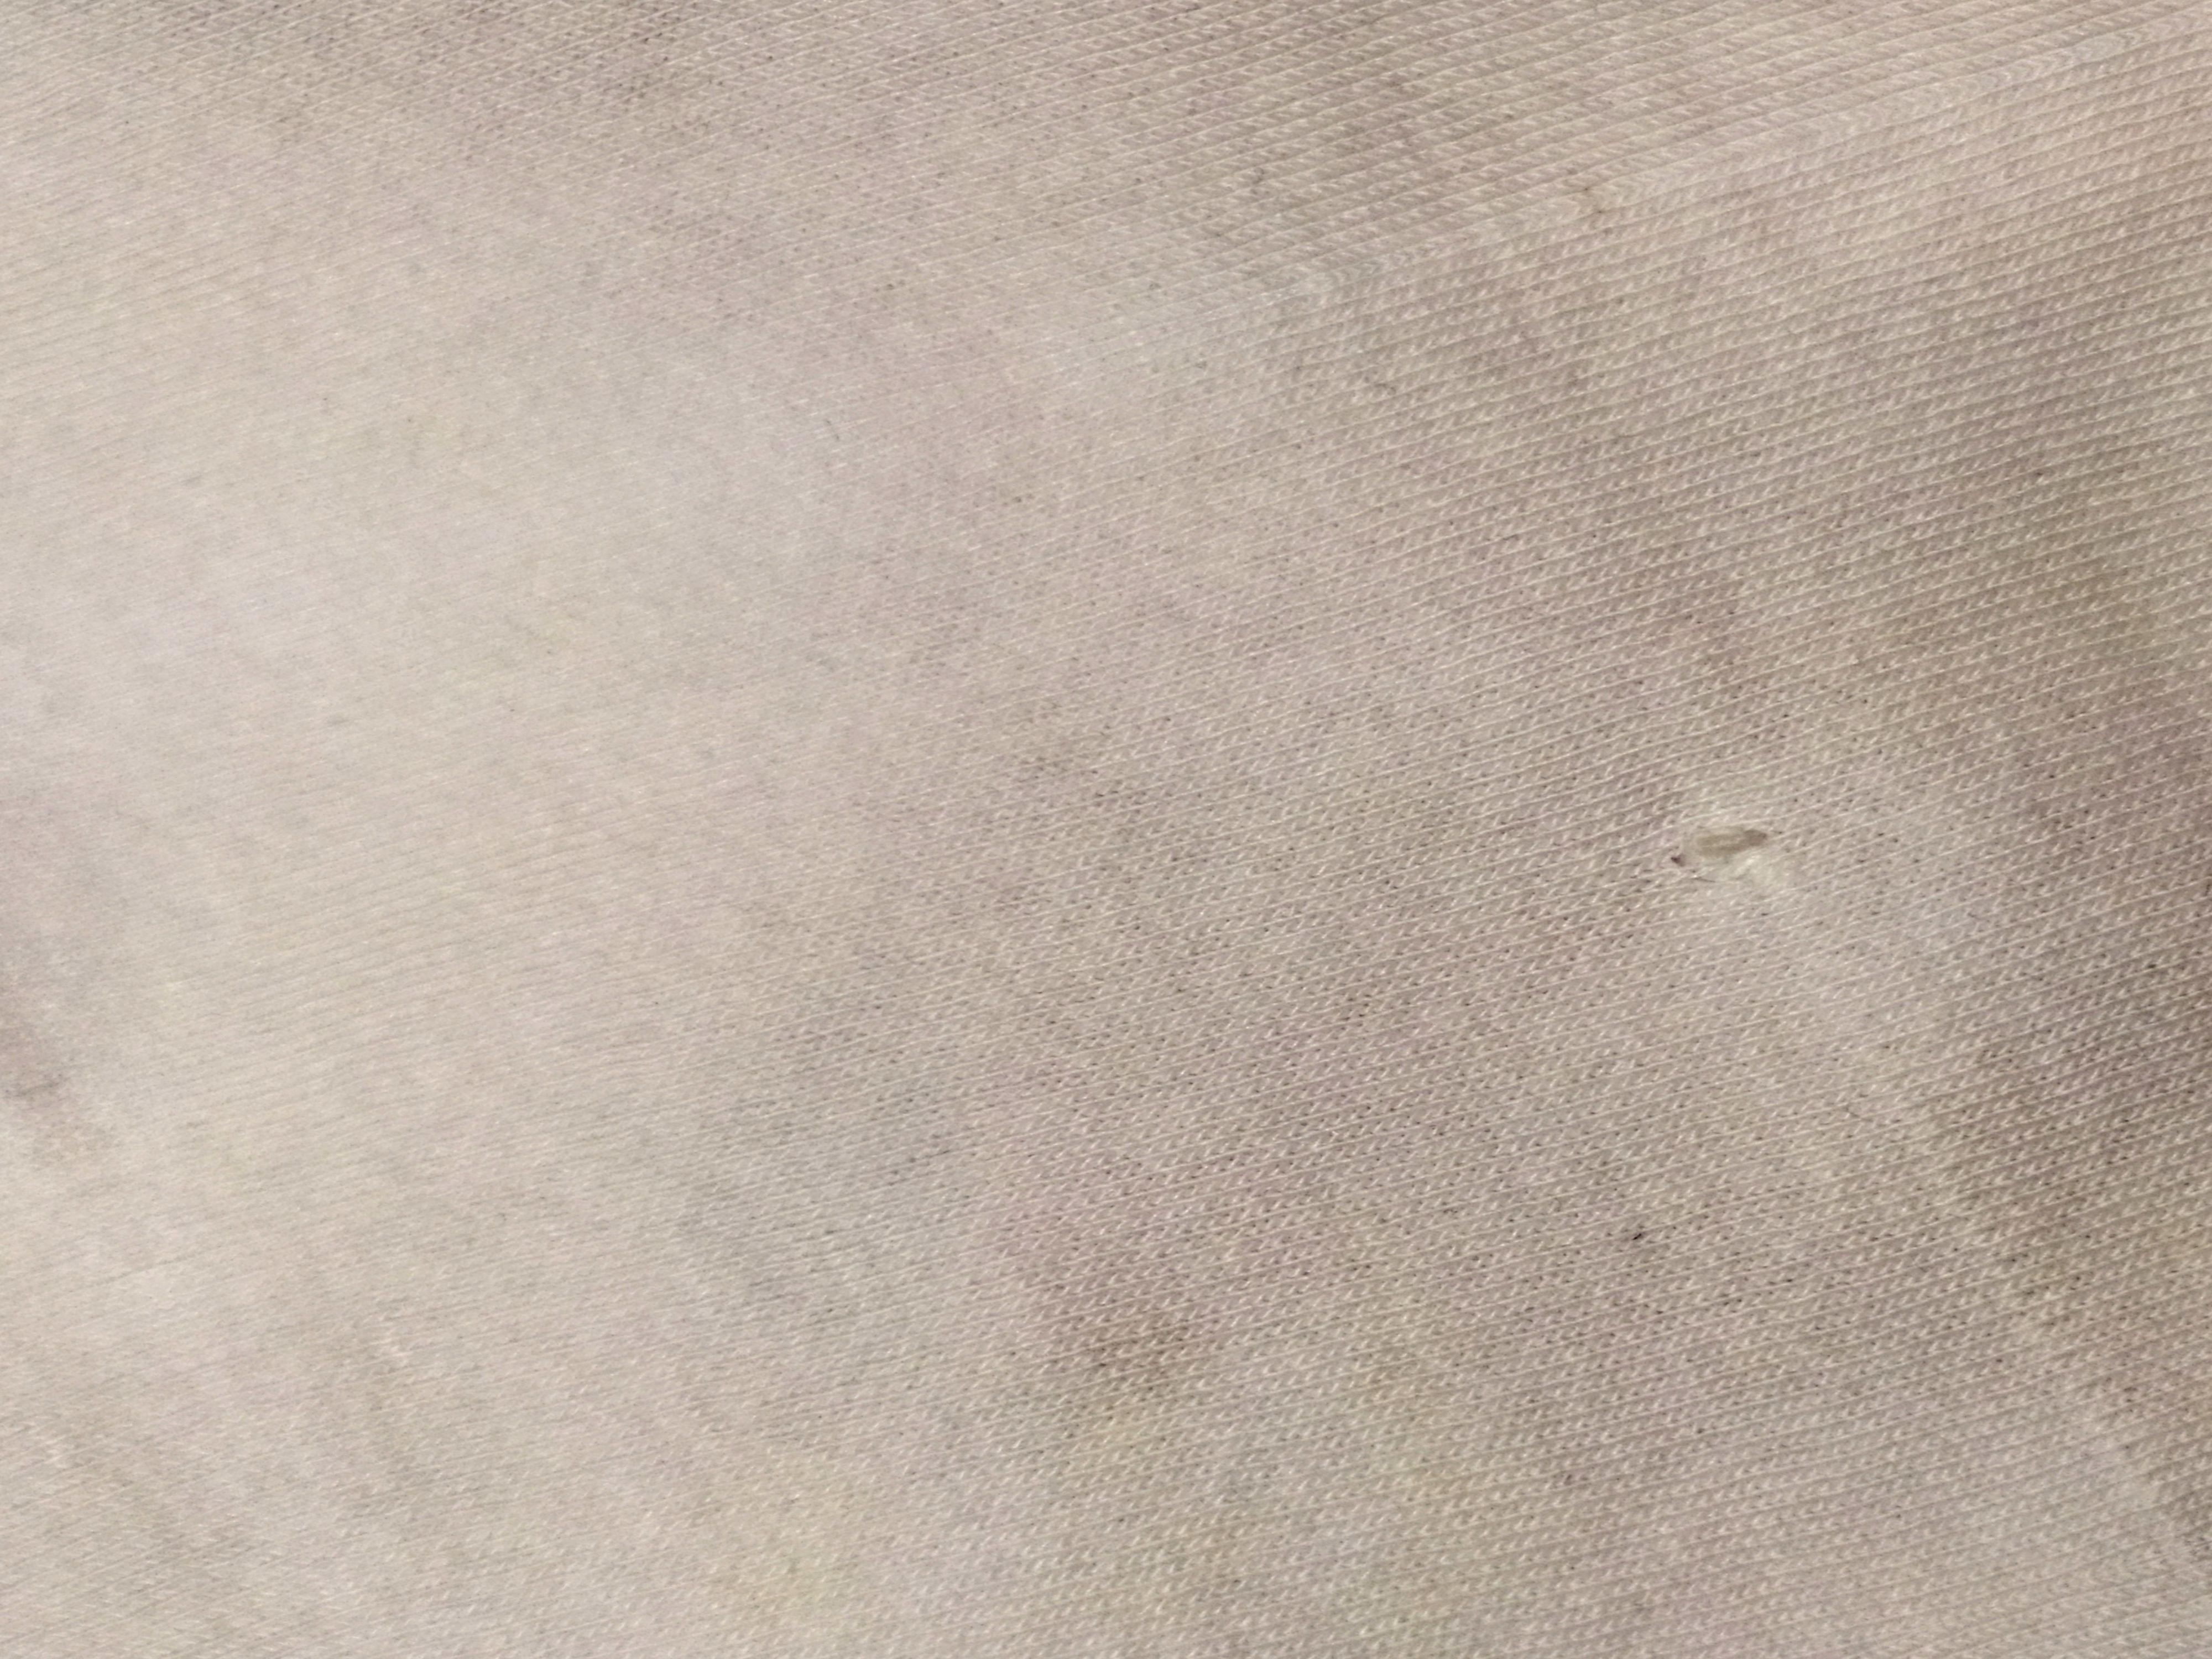knot: (1634, 784, 1804, 929)
